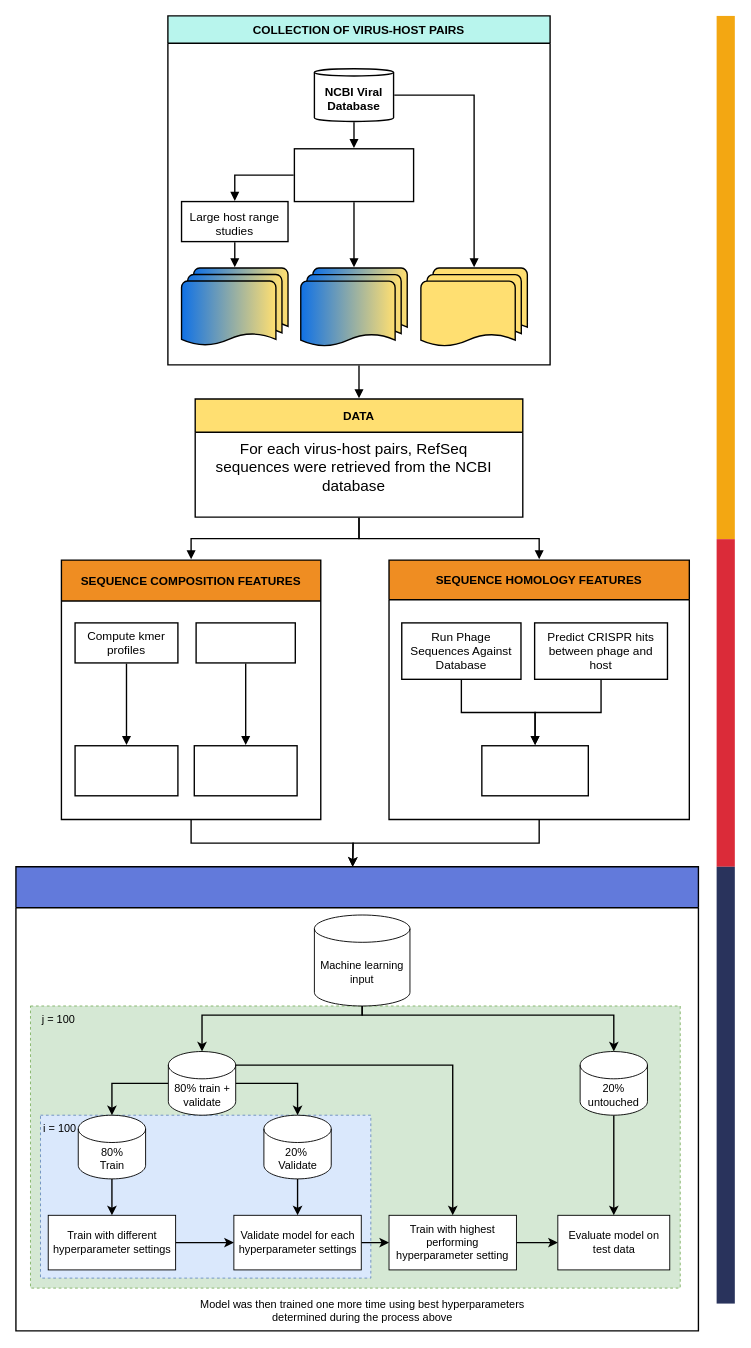
The diagram is 751 pixels wide and 1348 high, and some of its shapes have lost their labels. Each missing label, with the centre of its shape:
"Compute distance matrix (k = (3, 6), d2*)" belongs at point (126, 770).
"Compute GC Content" belongs at point (245, 642).
"Compute GC Difference (Phage - Host)" belongs at point (245, 770).
"Literature search of virus host range" belongs at point (353, 175).
"Nahant Collection + Staphylococcus Study" belongs at point (234, 307).
"Summarize homology feature" belongs at point (535, 770).
"TRAINING AND ASSESSING MACHINE LEARNING MODEL" belongs at point (357, 1098).
"Virus host range from published articles" belongs at point (353, 307).
"Virus-host pairs extracted from GenBank files" belongs at point (474, 307).
